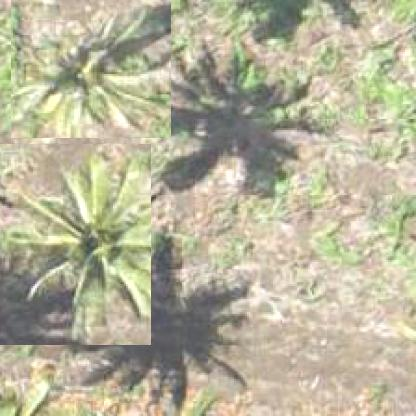coconut tree: (0, 144, 152, 346), (11, 0, 172, 139)
